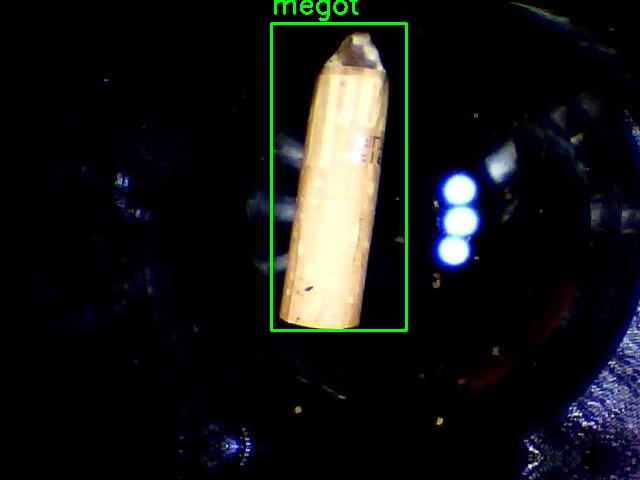megot: (271, 23, 406, 330)
